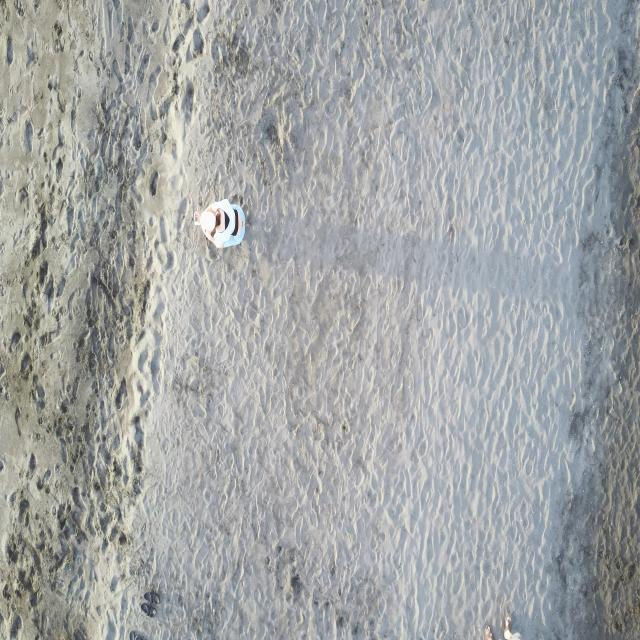tin-and-aluminum-cans: (485, 624, 494, 640)
